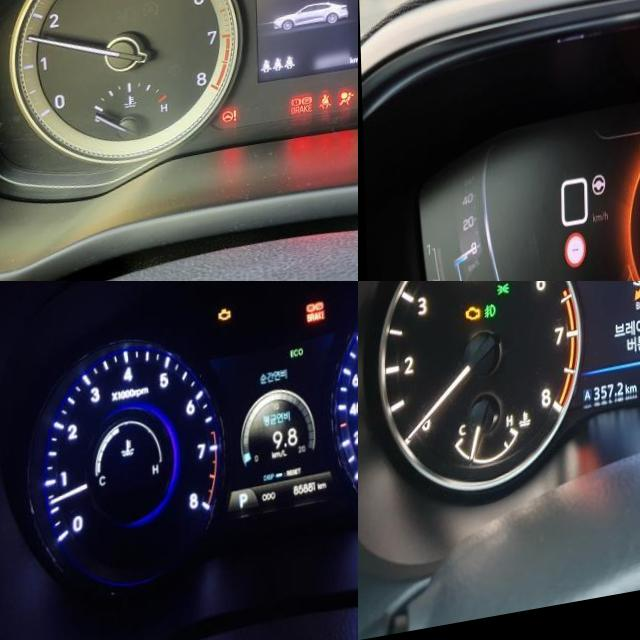FrontFogLight: (482, 309, 493, 325)
SideLamp: (493, 288, 507, 303)
